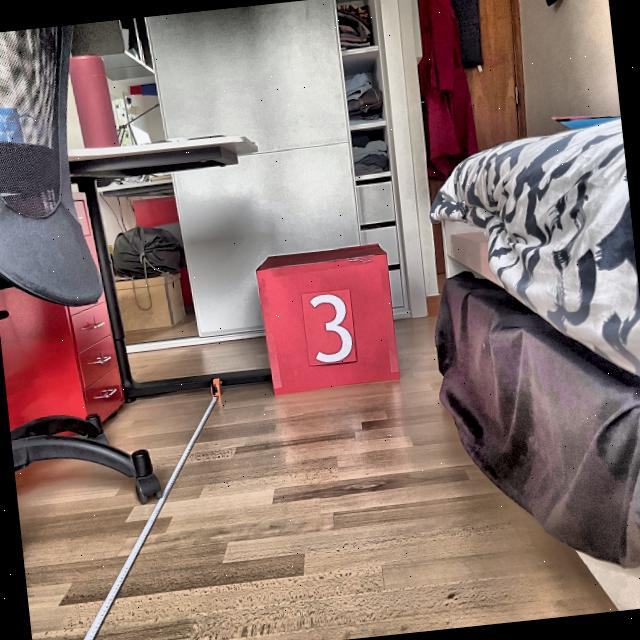red box: (256, 245, 400, 392)
three: (304, 289, 360, 366)
